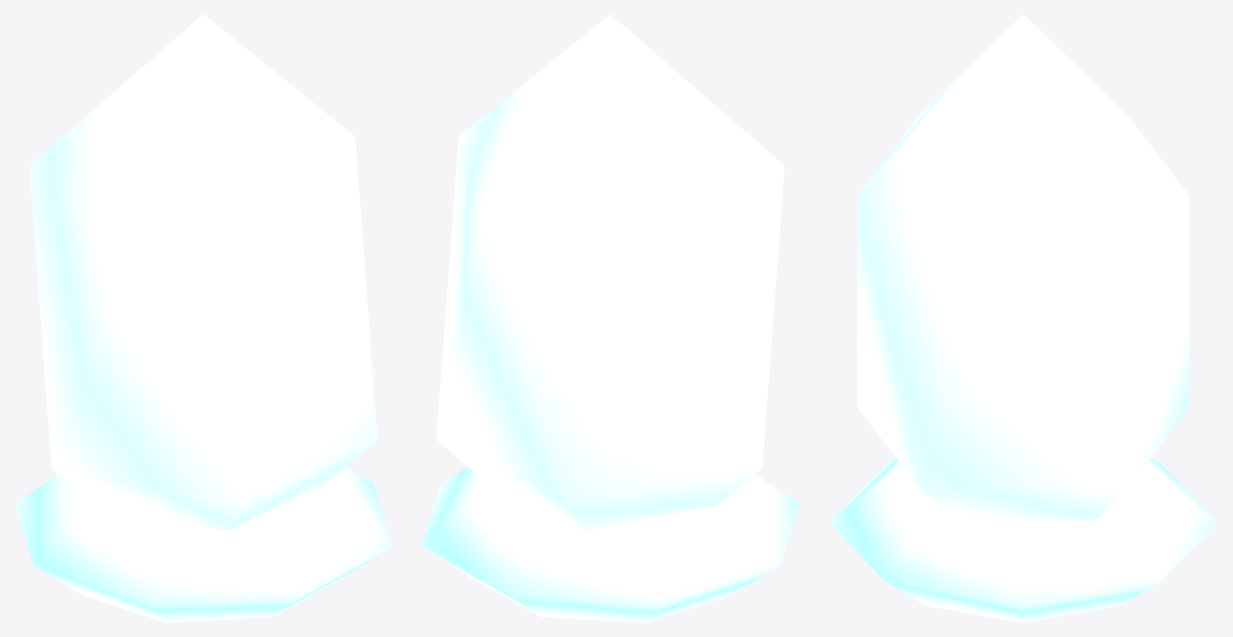
The model's file is item_pickup.glb.
3 renders of one model, left to right at view 1: azimuth 30°, elevation 25°; view 2: azimuth 150°, elevation 25°; view 3: azimuth 270°, elevation 25°, orthographic.
Visible parts, largest first — view 1: Crystal, GlowBase; view 2: Crystal, GlowBase; view 3: Crystal, GlowBase.
Part boxes in pixels (x1,y1,x2,y2): Crystal: (29,14,377,531); GlowBase: (14,467,392,622); Crystal: (436,14,784,531); GlowBase: (421,467,799,622); Crystal: (857,14,1189,520); GlowBase: (828,458,1218,622).
Size of the model in its own units: 0.24 by 0.39 by 0.24.
